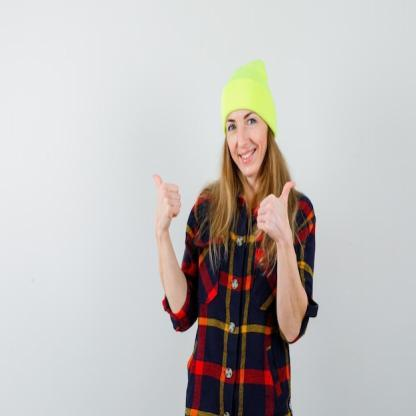thumb_up: (254, 177, 296, 245), (149, 168, 184, 232)
